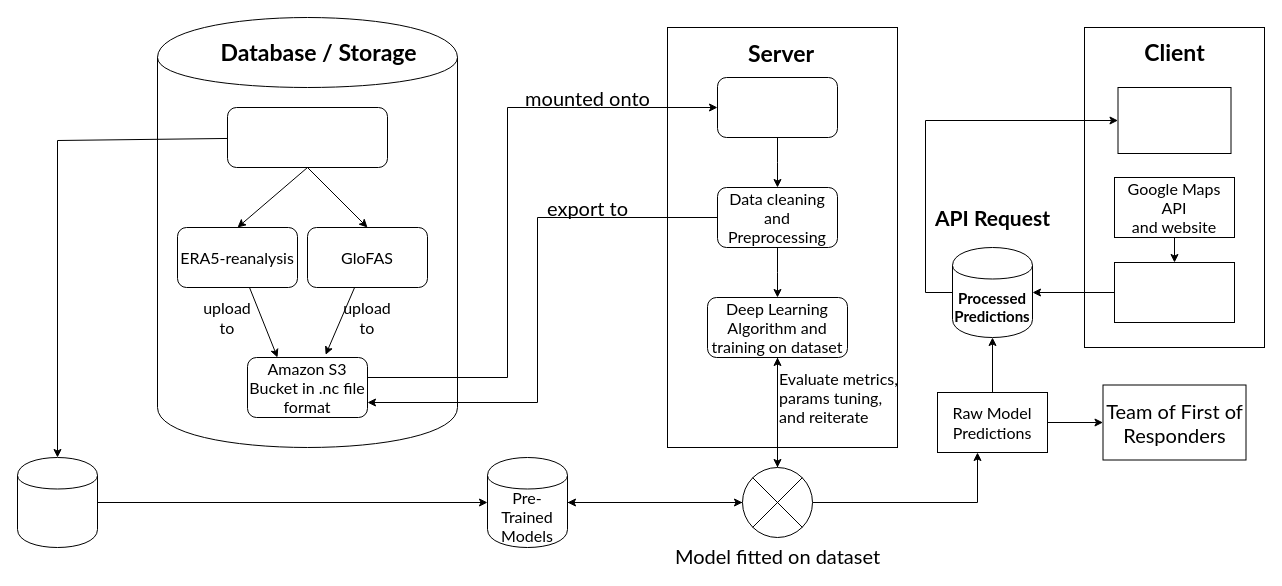
This 1282x586 diagram has some shape labels left out. Each missing label, with the box of its shape:
Data download from Climate Data Store via Python API: (226, 106, 388, 168)
EC2 instance (Virtual machine instance): (716, 76, 838, 138)
Live Email Alert system through SMTPLIB: (1117, 86, 1231, 154)
New Daily Data: (16, 456, 98, 548)
Visualization on Map with discharge data: (1114, 262, 1234, 322)
